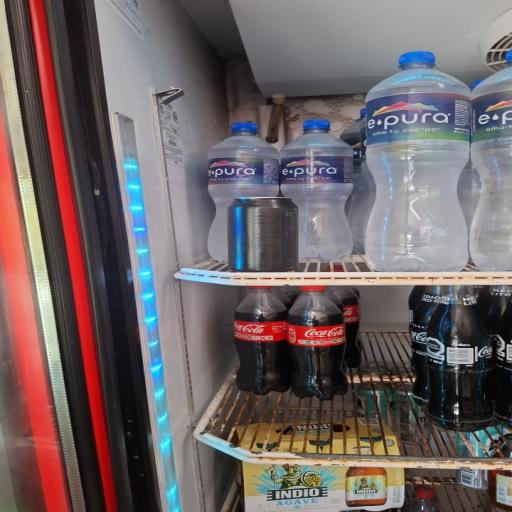LATA: (214, 188, 318, 278)
